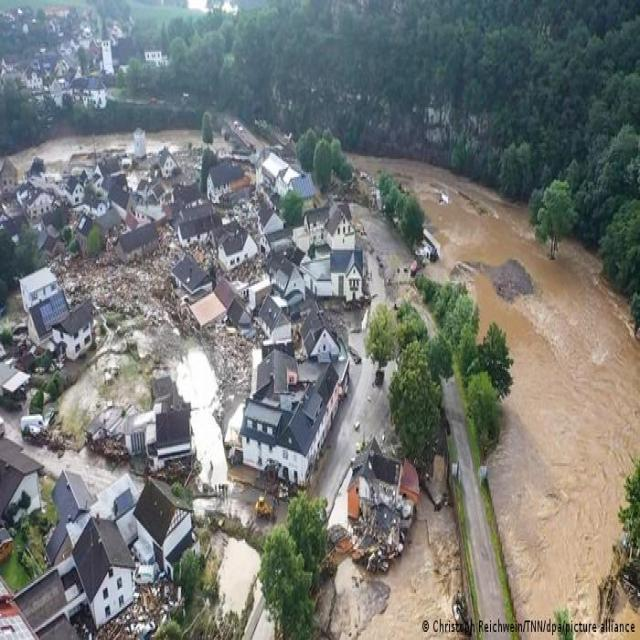flood: (362, 157, 640, 640), (331, 497, 467, 640), (312, 365, 387, 522), (177, 348, 228, 488), (8, 134, 131, 182), (214, 536, 259, 612), (150, 129, 200, 150), (253, 617, 273, 640)
house: (240, 352, 352, 488), (72, 516, 142, 631), (127, 480, 192, 584), (0, 564, 67, 640), (0, 434, 42, 543), (20, 266, 70, 344), (319, 226, 365, 304), (146, 406, 201, 459), (50, 466, 94, 520), (52, 308, 95, 360), (168, 247, 215, 294), (115, 215, 160, 260), (217, 228, 260, 274), (302, 309, 341, 359), (258, 296, 292, 344), (18, 180, 56, 220), (0, 355, 30, 405), (274, 258, 307, 300), (206, 162, 240, 202), (176, 208, 212, 245), (70, 78, 108, 109), (261, 153, 287, 188), (74, 215, 98, 252), (287, 173, 318, 200), (260, 206, 286, 233), (158, 149, 180, 178), (110, 188, 132, 216), (94, 156, 120, 178), (143, 44, 168, 66), (67, 178, 85, 206)
